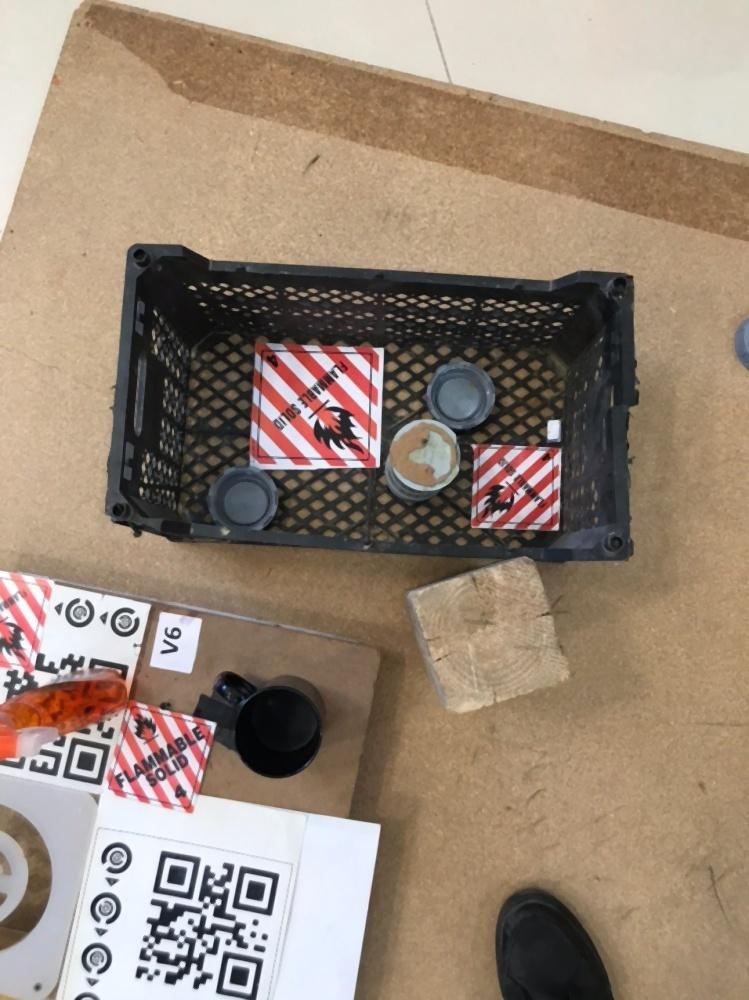flammable-solid: (250, 343, 384, 473), (107, 701, 218, 815), (470, 445, 562, 532), (1, 566, 56, 677)
